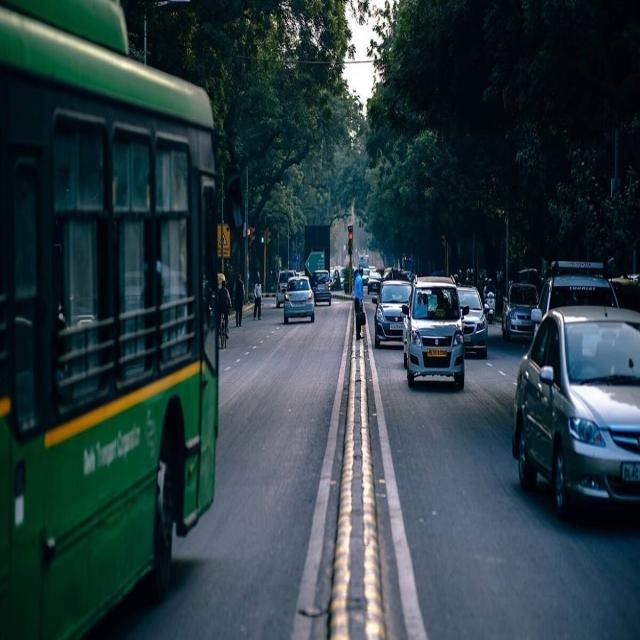Clean road: (185, 258, 640, 640)
